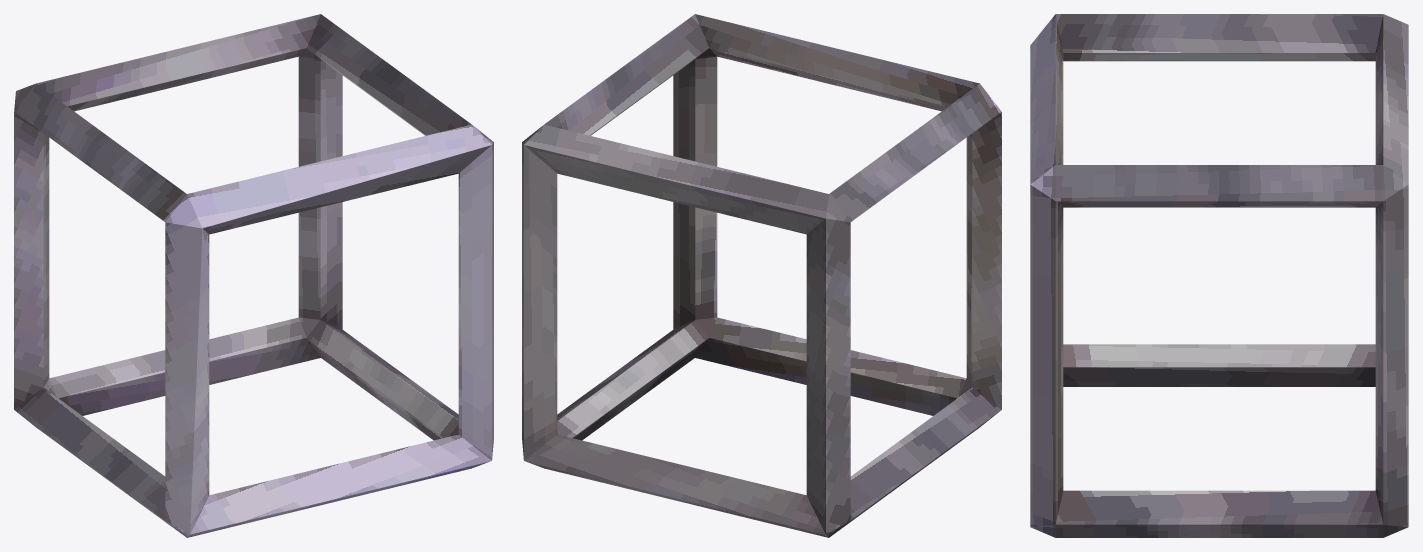
Rendered from item_cube_frame.glb.
3 views of the same model, side by side, from view 1: azimuth 30°, elevation 25°; view 2: azimuth 150°, elevation 25°; view 3: azimuth 270°, elevation 25° (orthographic). The views are drawn at different scales.
Visible parts, largest first — view 1: CubeOpen; view 2: CubeOpen; view 3: CubeOpen.
Part boxes in pixels (bbox=[...]): CubeOpen: bbox=[14, 14, 493, 537]; CubeOpen: bbox=[522, 14, 1001, 537]; CubeOpen: bbox=[1030, 14, 1408, 537].
Bounding box in the file's own units: 0.681 × 0.681 × 0.6252.
1 material, 1 textured.
